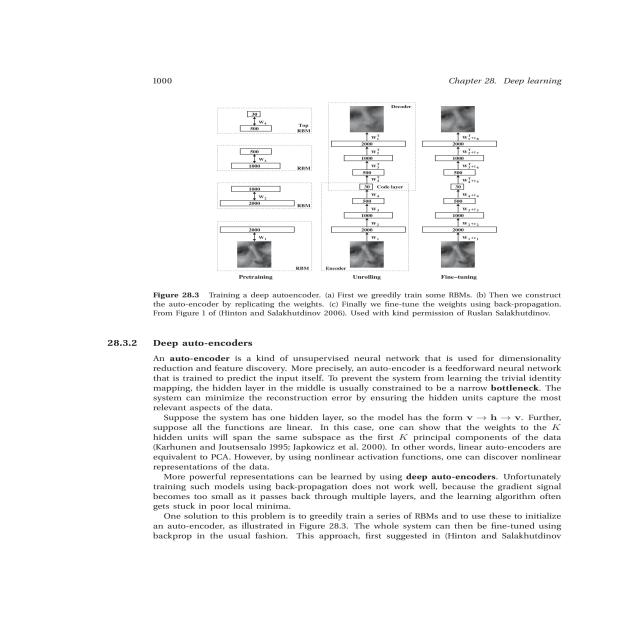diagram: (111, 97, 612, 327)
